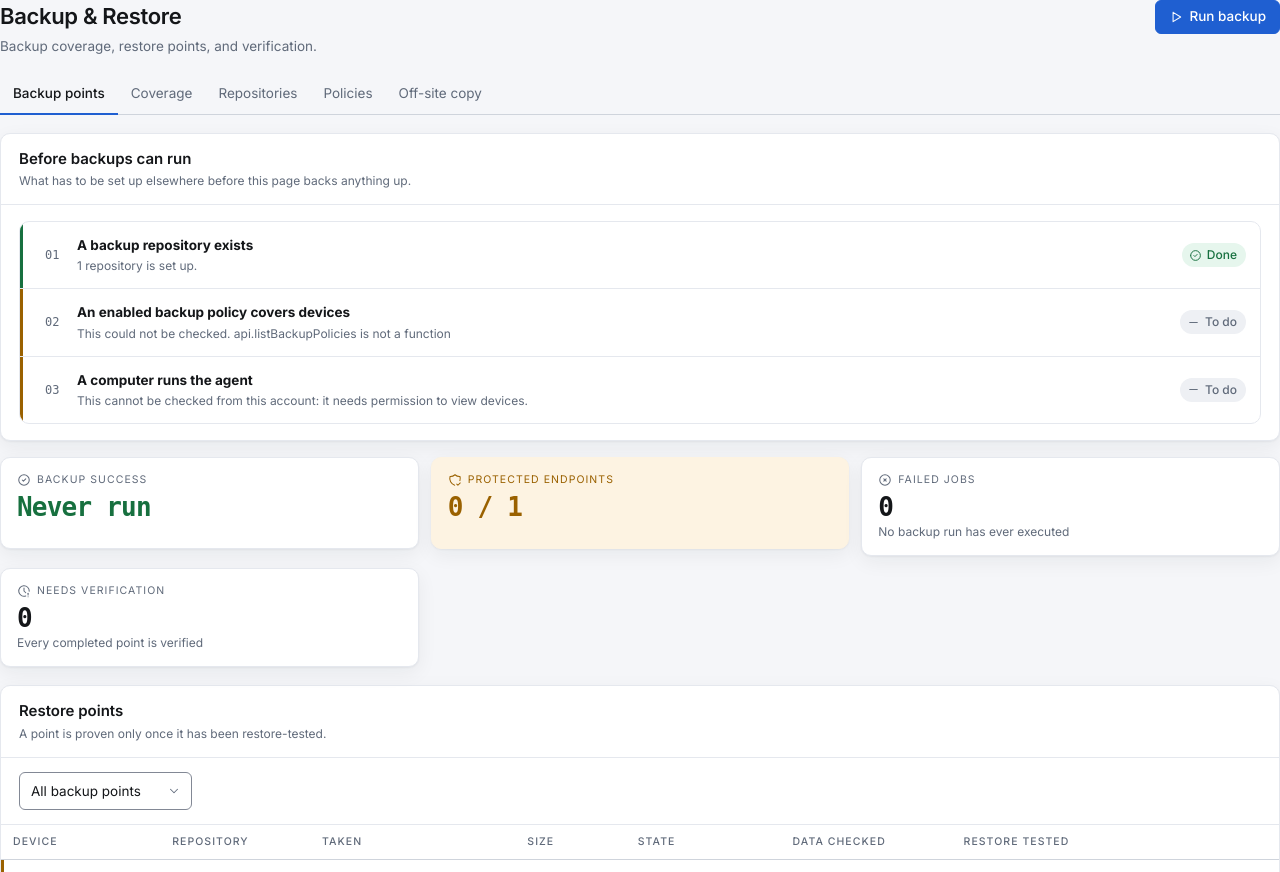
Scenario: BackupPointsPage › offers devices as a searchable list rather than a raw ID box
Step 1. Click the button "Run backup" → click(1218, 17), box [1156,0,1279,34]
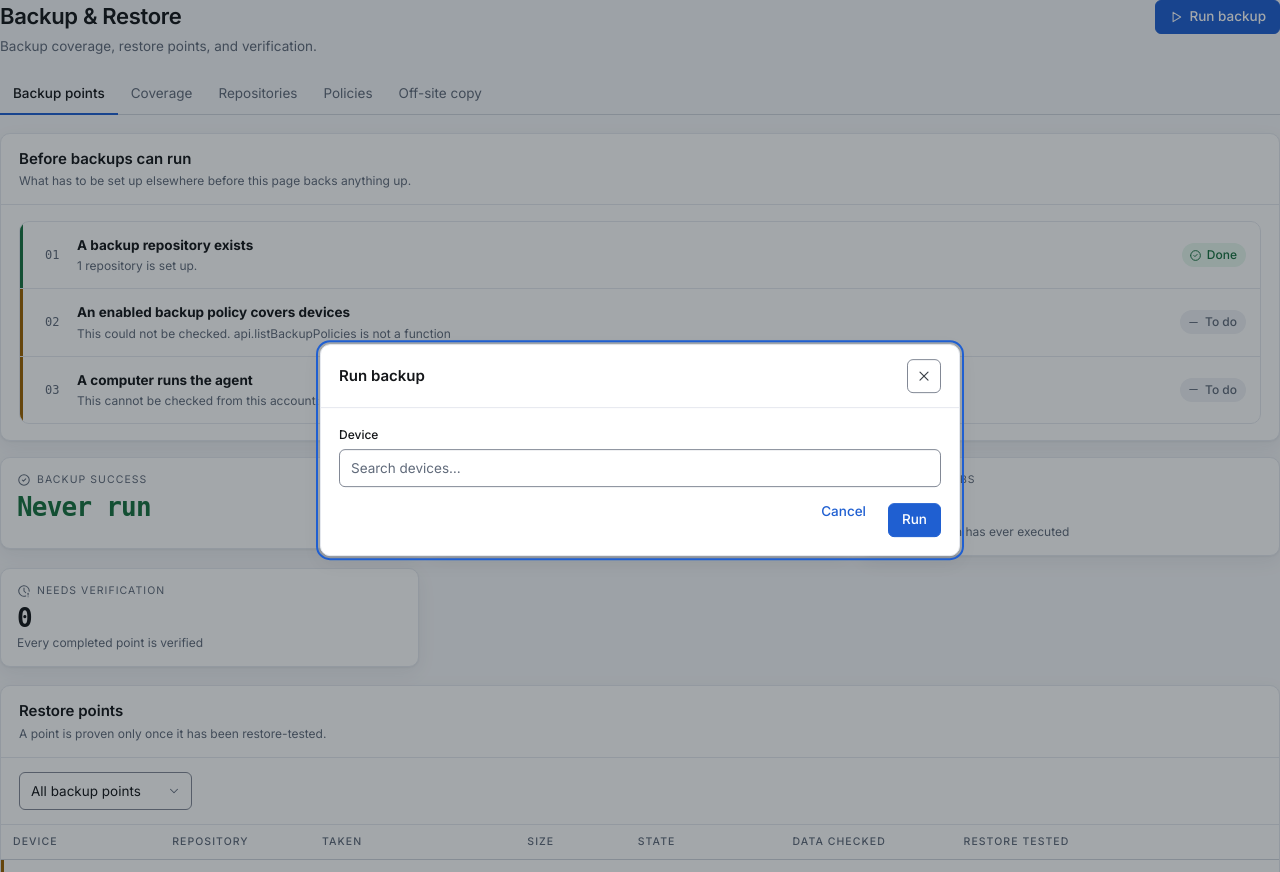
Step 2. Click the dropdown labelled "Device" → click(640, 468), box [339,449,941,487]
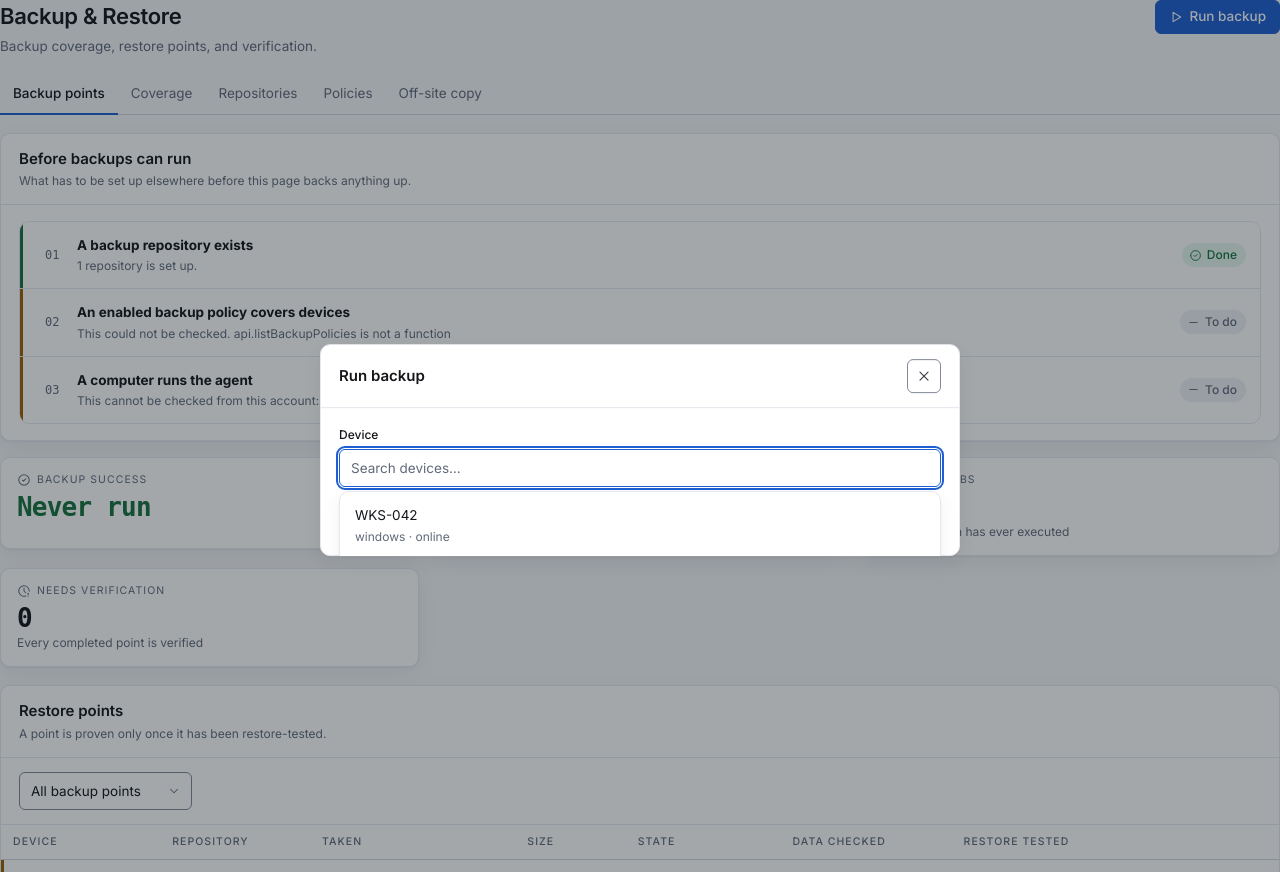
Expected: the option "WKS-042 windows · online" is shown, [345,497,935,554]
